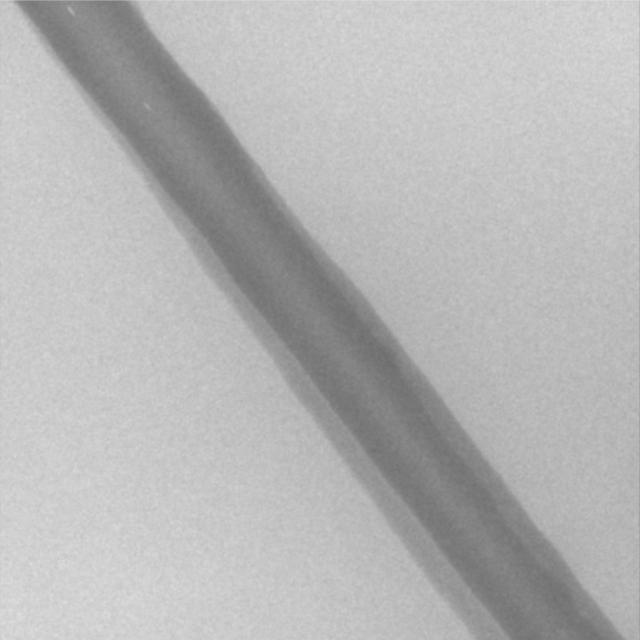air hole: (64, 4, 74, 16), (143, 102, 152, 114)
